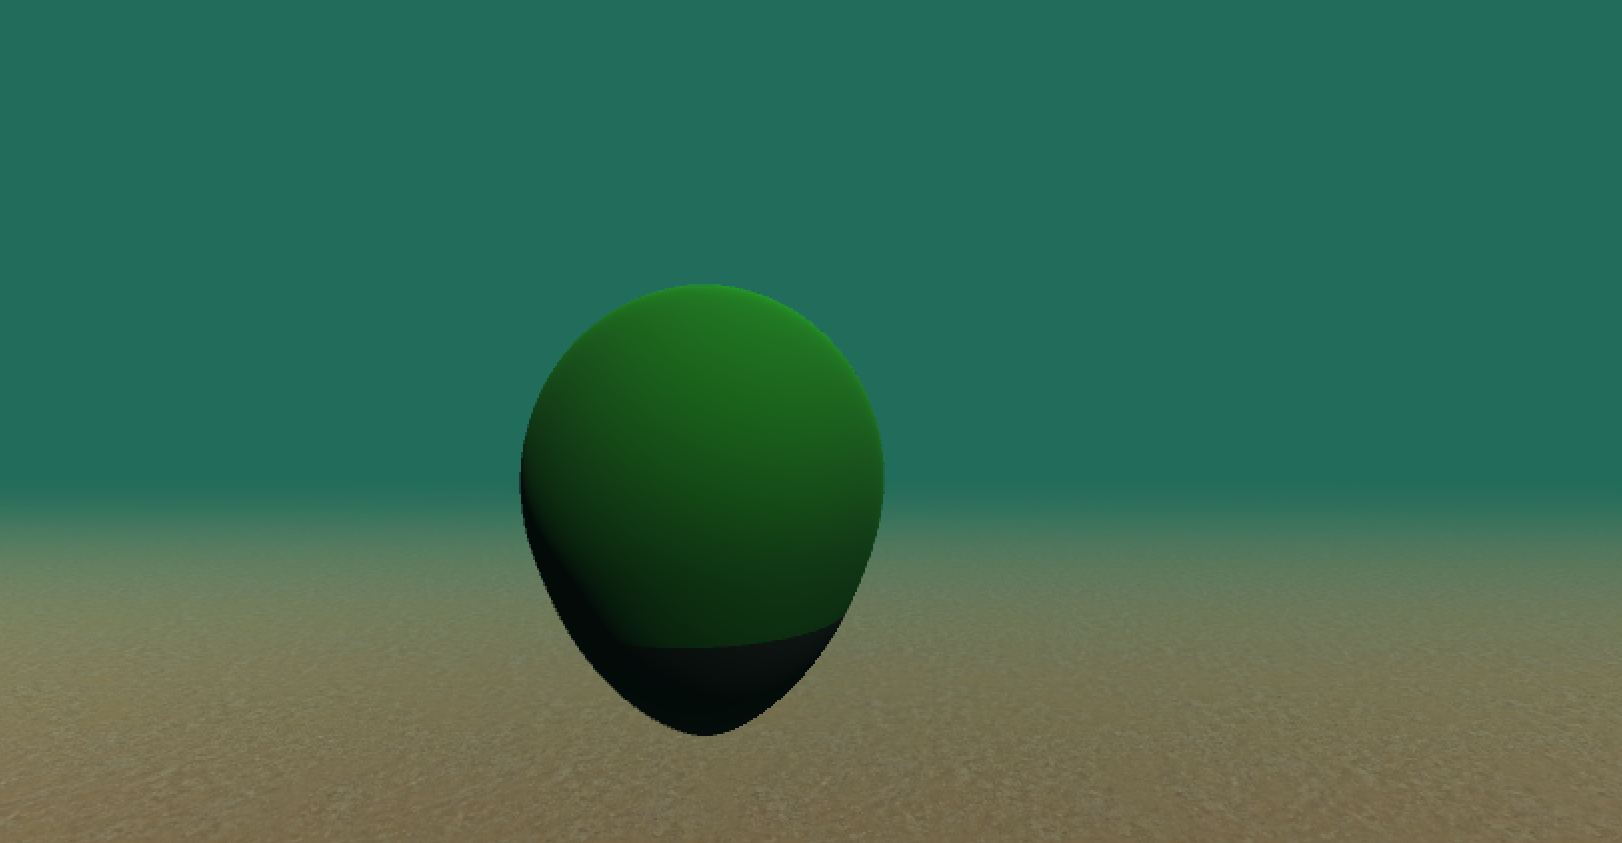green buoy: (516, 279, 893, 740)
